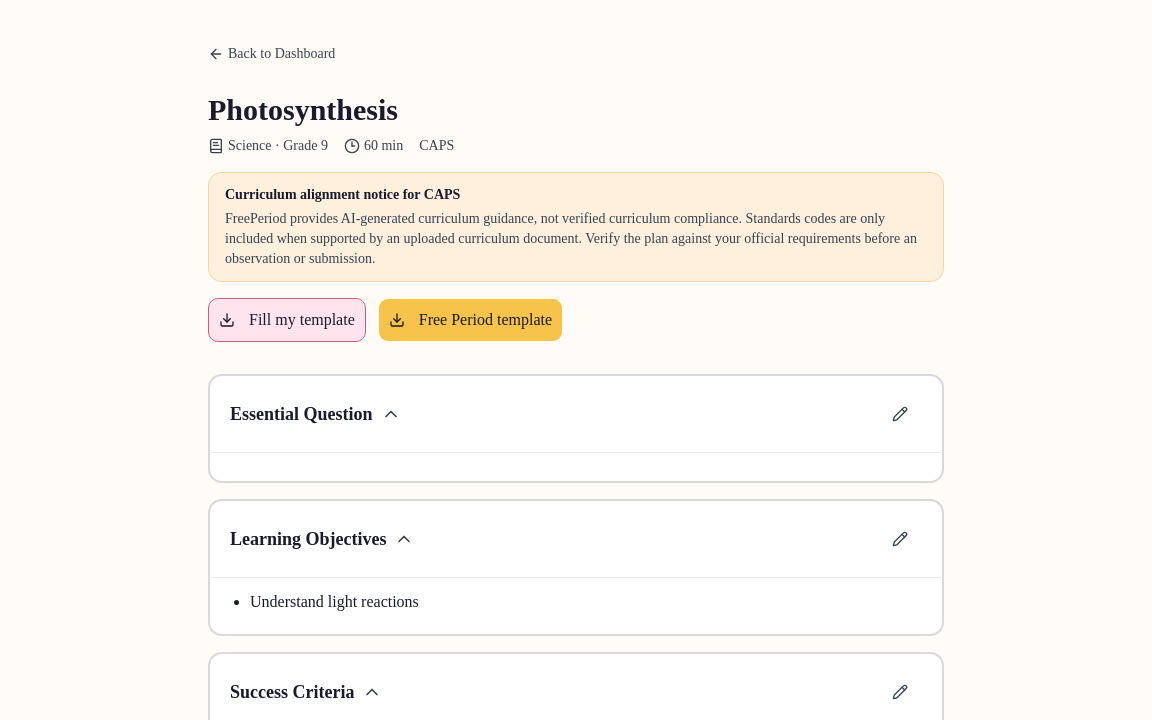
Test case: LessonView › makes Download the solid yellow action and Fill the soft coral action when no template is uploaded
Click the button "Fill my template" at {"x": 287, "y": 320}, box left=208, top=298, right=366, bottom=342
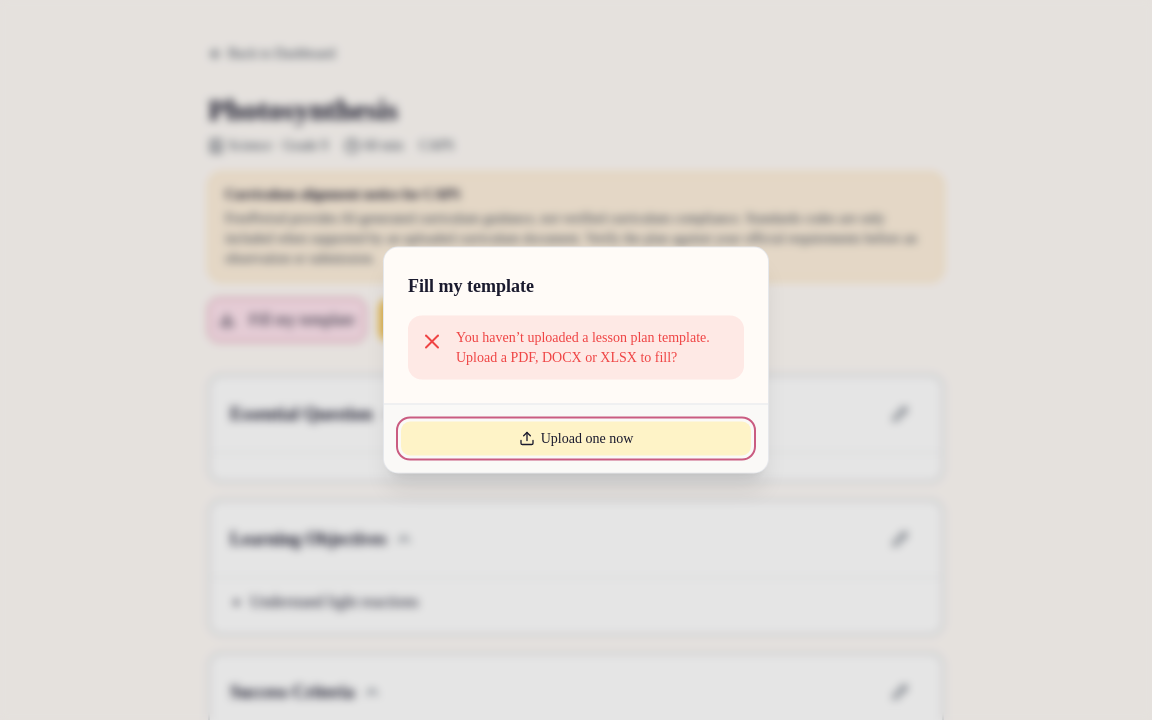
expect the text "You haven’t uploaded a lesson plan template. Upload a PDF, DOCX or XLSX to fill?" is shown: met, box left=456, top=328, right=732, bottom=368
expect the button "Upload one now" is shown: met, box left=400, top=420, right=752, bottom=456
